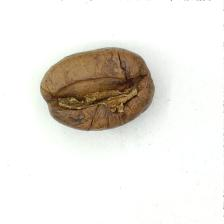NG: (47, 63, 151, 125)
